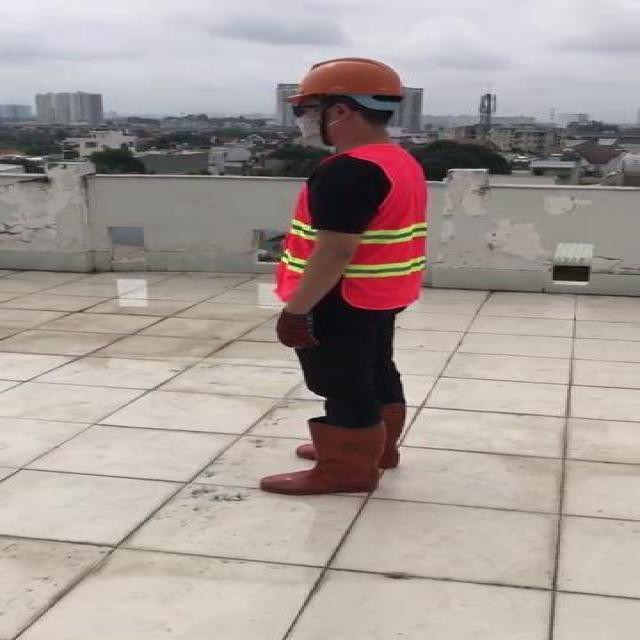boots: (261, 421, 384, 495), (300, 400, 408, 468)
gloves: (272, 312, 315, 349)
helmet: (280, 55, 406, 102)
vest: (259, 144, 426, 309)
